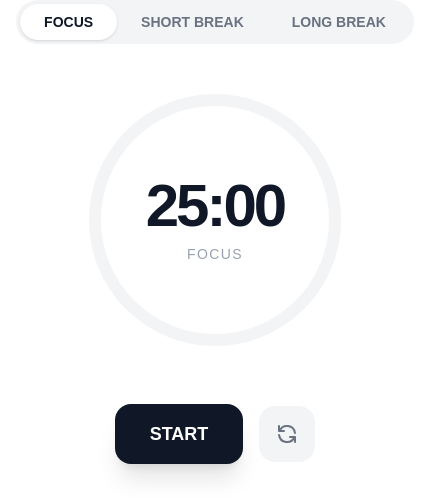
Test case: Focus Flow Micro-App › PomodoroTimer Component › switches timer mode on button click and displays correct duration
The width and height of the screenshot is (431, 498).
// Click Short Break
Click the button "SHORT BREAK". click: {"x": 192, "y": 22}
box: [117,4,268,40]
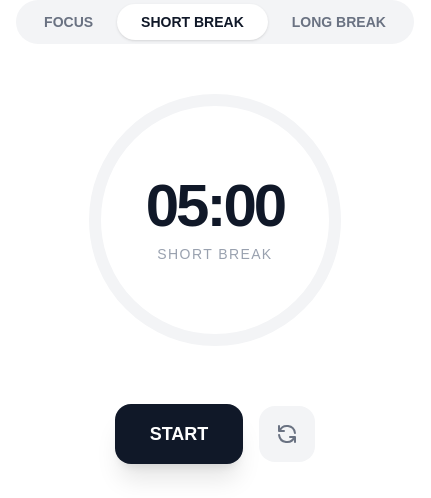
Result: the text "05:00" is shown at [146,176,284,236]
// Click Long Break
Click the button "LONG BREAK". click: {"x": 339, "y": 22}
box: [268,4,410,40]
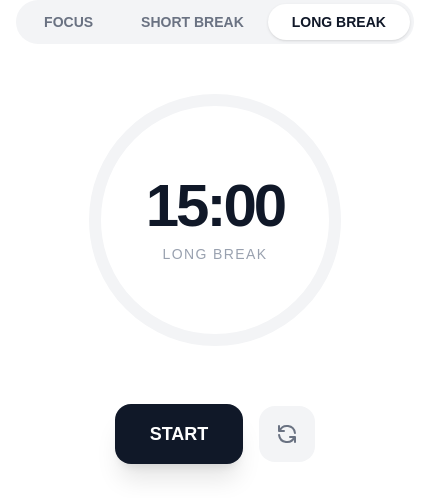
Result: the text "15:00" is shown at [146,176,284,236]
